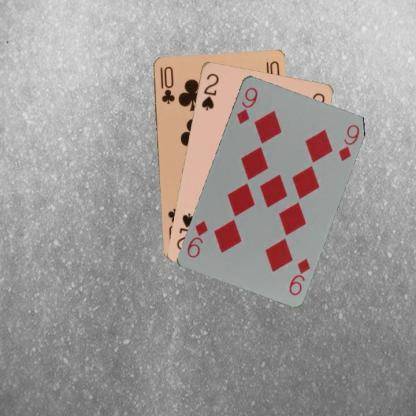10c: (157, 64, 176, 106)
2s: (198, 70, 220, 112)
9d: (233, 84, 259, 126), (286, 256, 311, 296)
